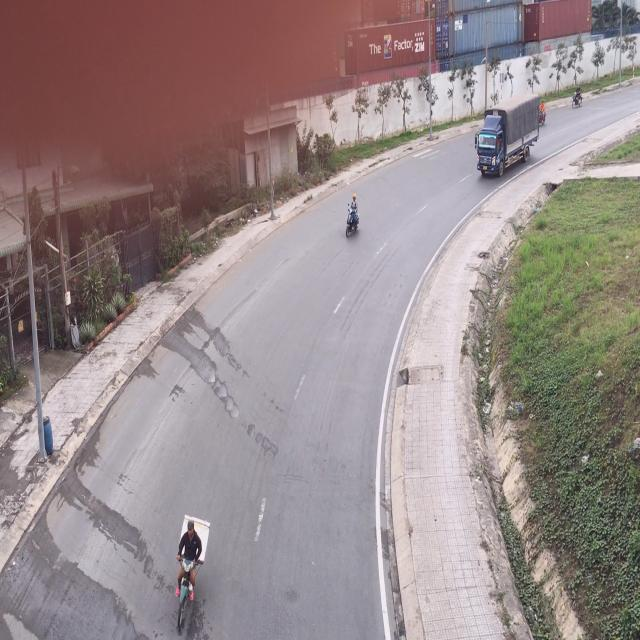motorbike: (178, 513, 208, 638), (344, 193, 362, 242)
truck: (476, 92, 541, 180)
